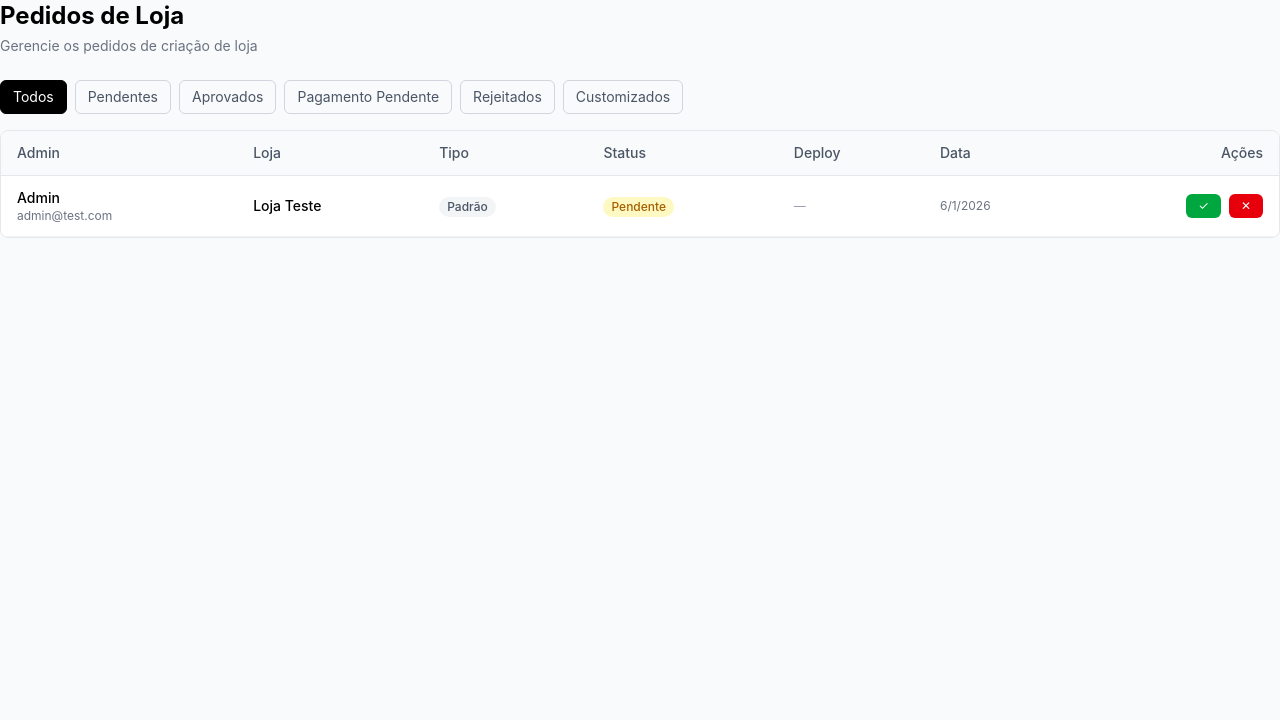
Test: Store Requests Page › PENDING requests › shows success modal when approve returns token
Click the button "✓" at (1204, 206), box [1186,194,1221,218]
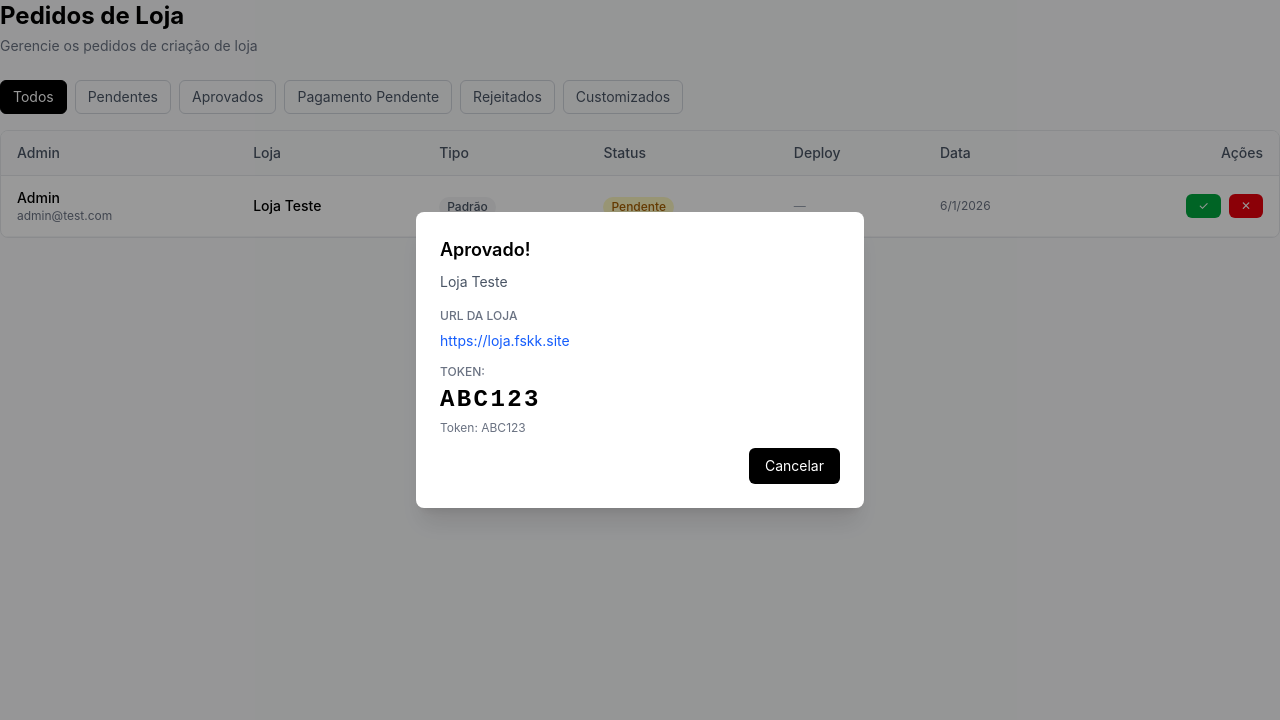
Expected: the text "ABC123" is shown, [440,386,541,413]
